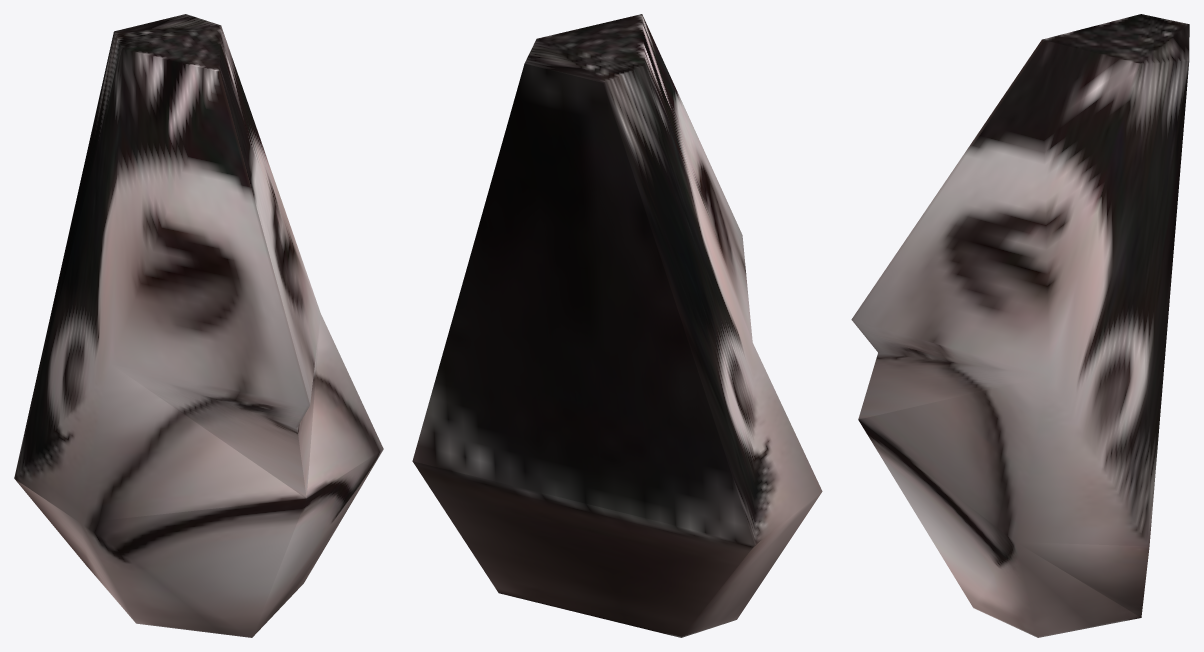
3 renders of one model, left to right at view 1: azimuth 30°, elevation 25°; view 2: azimuth 150°, elevation 25°; view 3: azimuth 270°, elevation 25°, orthographic. The views are drawn at different scales.
Visible parts, largest first — view 1: telemarketer; view 2: telemarketer; view 3: telemarketer.
Part boxes in pixels (x1,y1,x2,y2): telemarketer: (14, 14, 383, 637); telemarketer: (412, 14, 822, 637); telemarketer: (851, 14, 1189, 637).
Size of the model in its own units: 1.3 by 2.16 by 1.17.
1 material, 1 textured.
